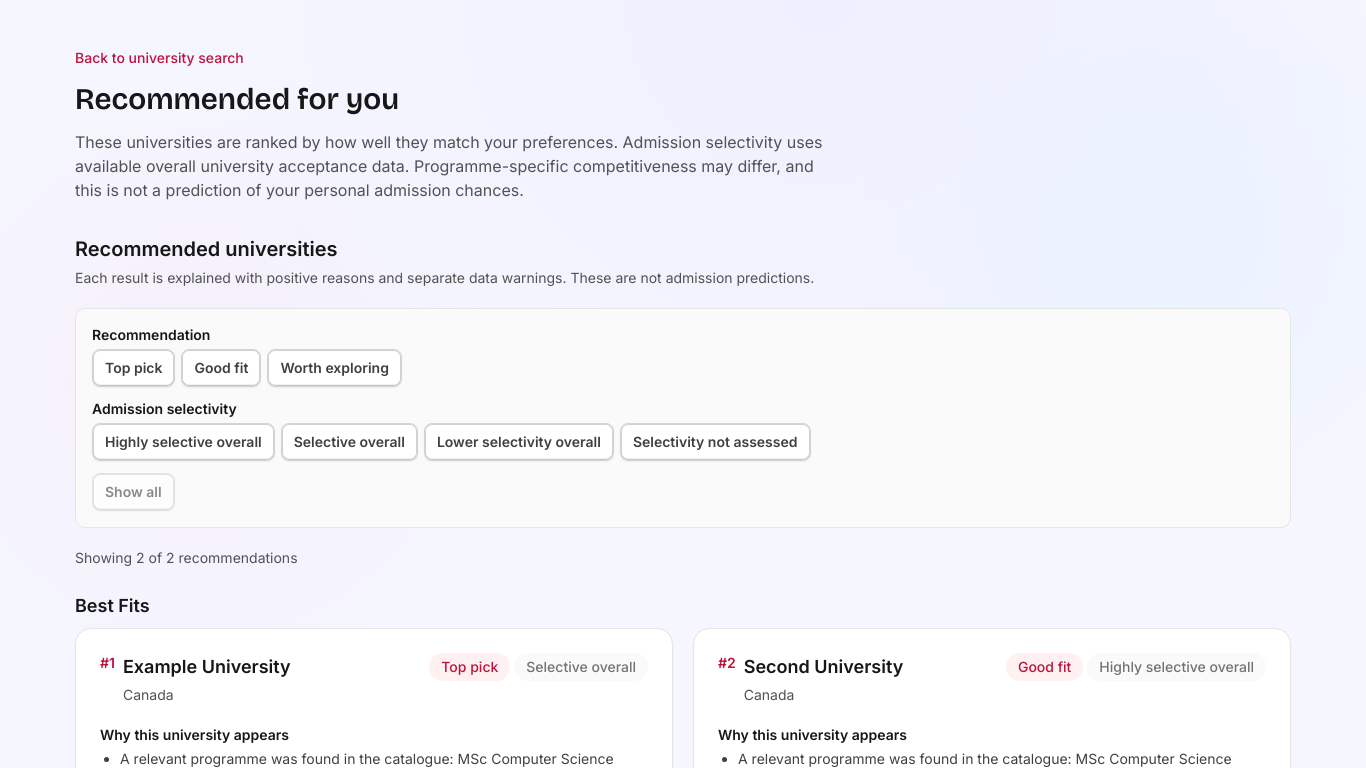
Test: UniversityMatchResults › shows a filter-specific empty state with a reset action
Click the button "Good fit" at (221, 368), box [182, 349, 261, 387]
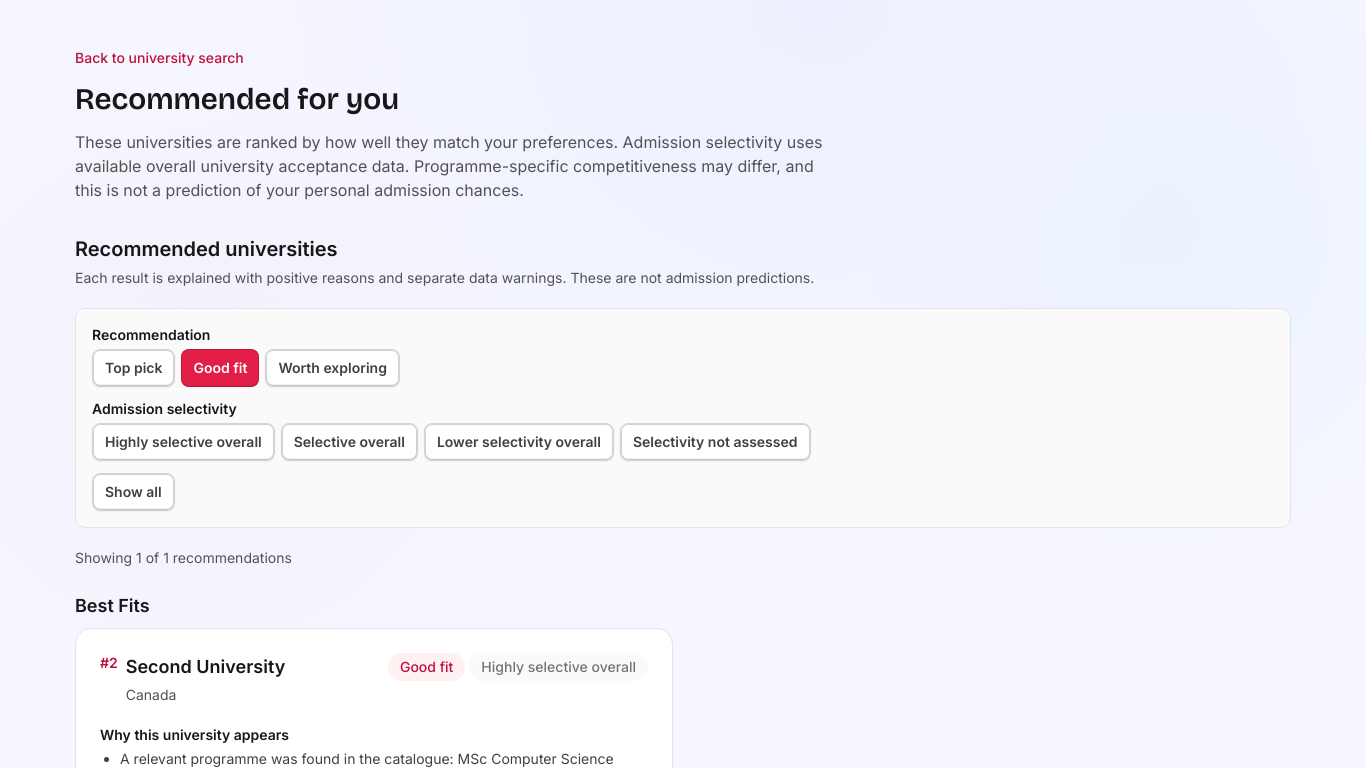
Click the button "Selective overall" at (349, 442), box [281, 423, 418, 461]
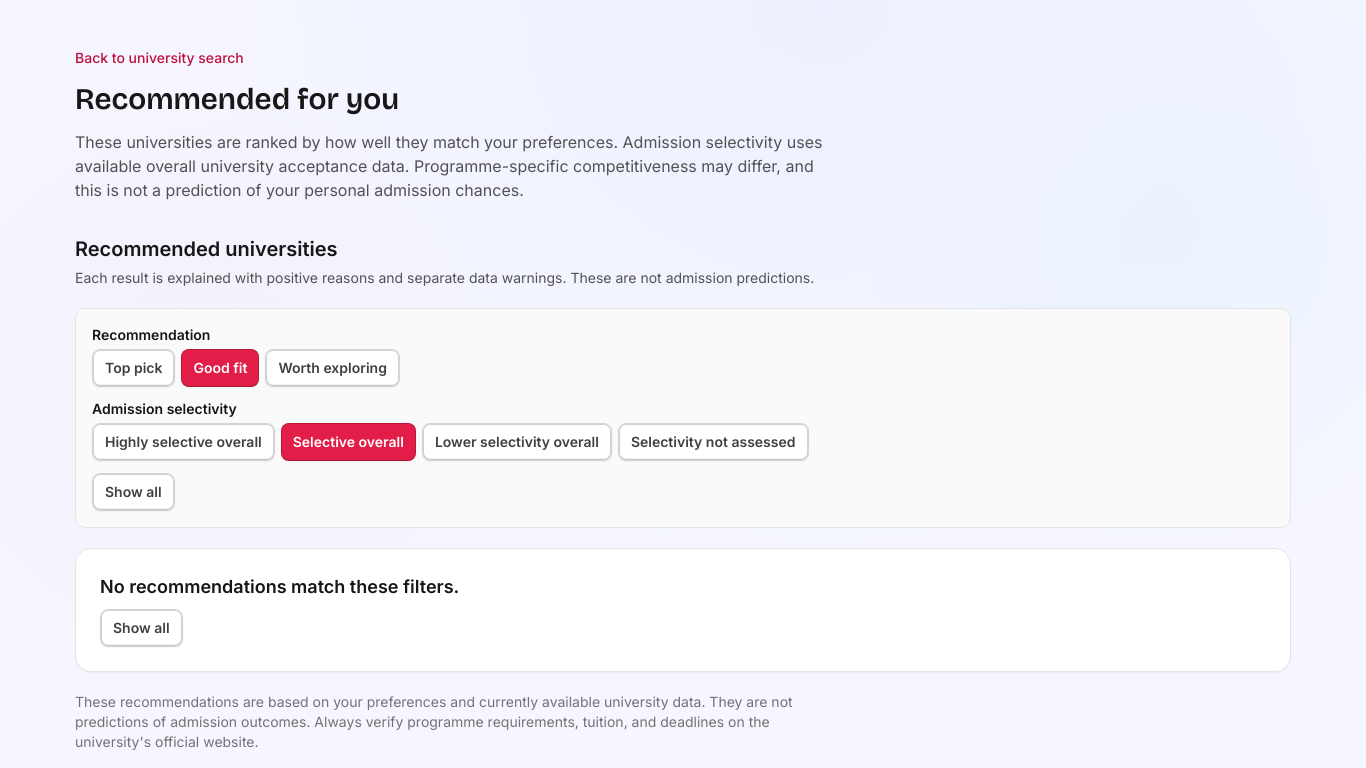
Check: the heading "No recommendations match these filters." is shown, box [100, 573, 459, 601]
Check: the number of buttons "Show all" is 2, box [92, 473, 175, 511]; [100, 609, 183, 647]
